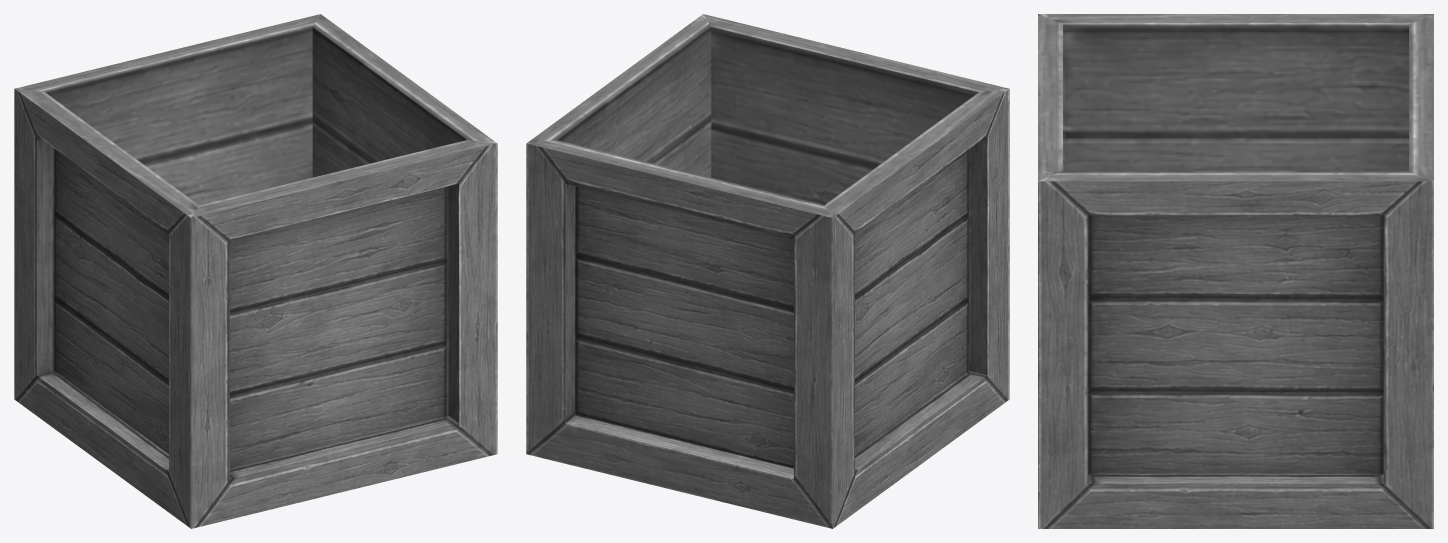
Rendered from CrateOpen01.fbx.
3 views of the same model, side by side, from view 1: azimuth 30°, elevation 25°; view 2: azimuth 150°, elevation 25°; view 3: azimuth 270°, elevation 25° (orthographic). The views are drawn at different scales.
Visible parts, largest first — view 1: CrateOpen01_LOD0; view 2: CrateOpen01_LOD0; view 3: CrateOpen01_LOD0.
Boxes of the visible parts, box(x1,y1,x2,y2) form: CrateOpen01_LOD0: box(14, 14, 497, 528); CrateOpen01_LOD0: box(526, 14, 1009, 528); CrateOpen01_LOD0: box(1038, 14, 1433, 528).
Size of what is drawn, in the model's own units: 0.4629 by 0.4487 by 0.4629.
